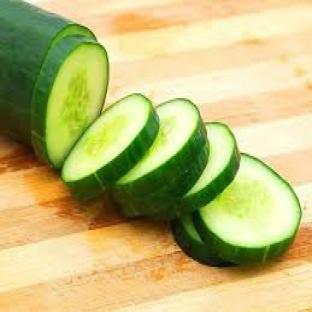Cucumber: (194, 155, 301, 263), (114, 99, 208, 217), (62, 94, 159, 199), (32, 37, 108, 167), (176, 123, 239, 213), (170, 214, 232, 266)
